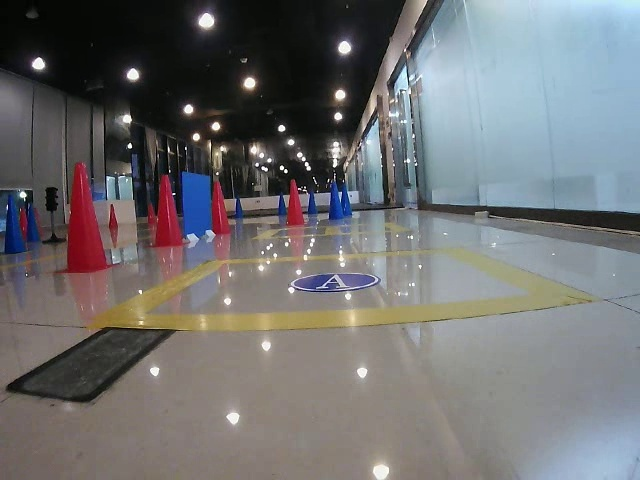A: (289, 272, 376, 290)
